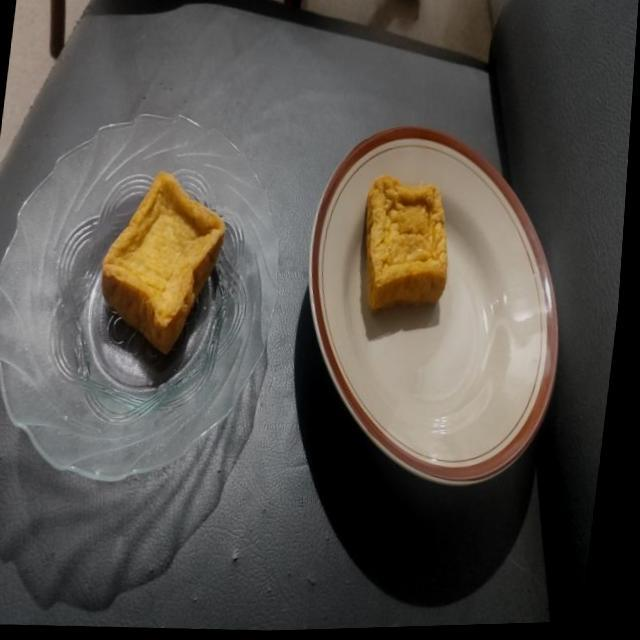tahu_goreng: (102, 172, 225, 354), (366, 176, 448, 311)
